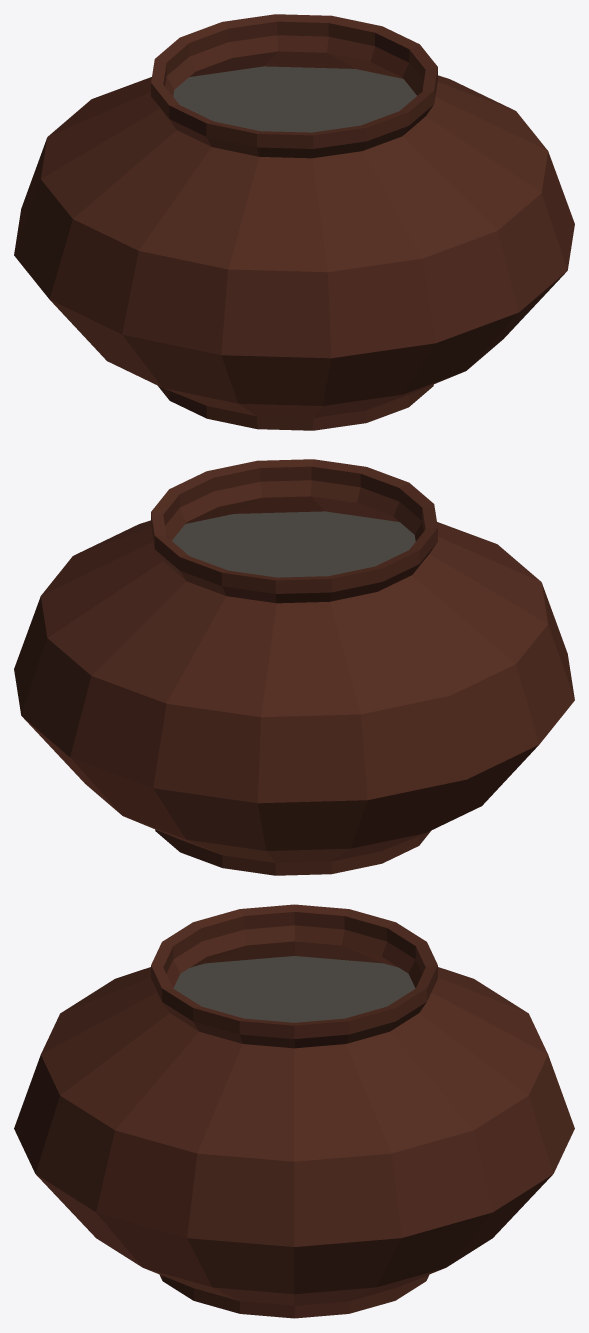
File: potSmall.fbx
3 renders of one model, top to bottom at view 1: azimuth 30°, elevation 25°; view 2: azimuth 150°, elevation 25°; view 3: azimuth 270°, elevation 25°, orthographic.
Visible parts, largest first — view 1: Sphere.003; view 2: Sphere.003; view 3: Sphere.003.
Part boxes in pixels (x1,y1,x2,y2): Sphere.003: (14,14,574,430); Sphere.003: (14,459,574,875); Sphere.003: (14,904,574,1318).
Size of the model in its own units: 185 by 185 by 107.
